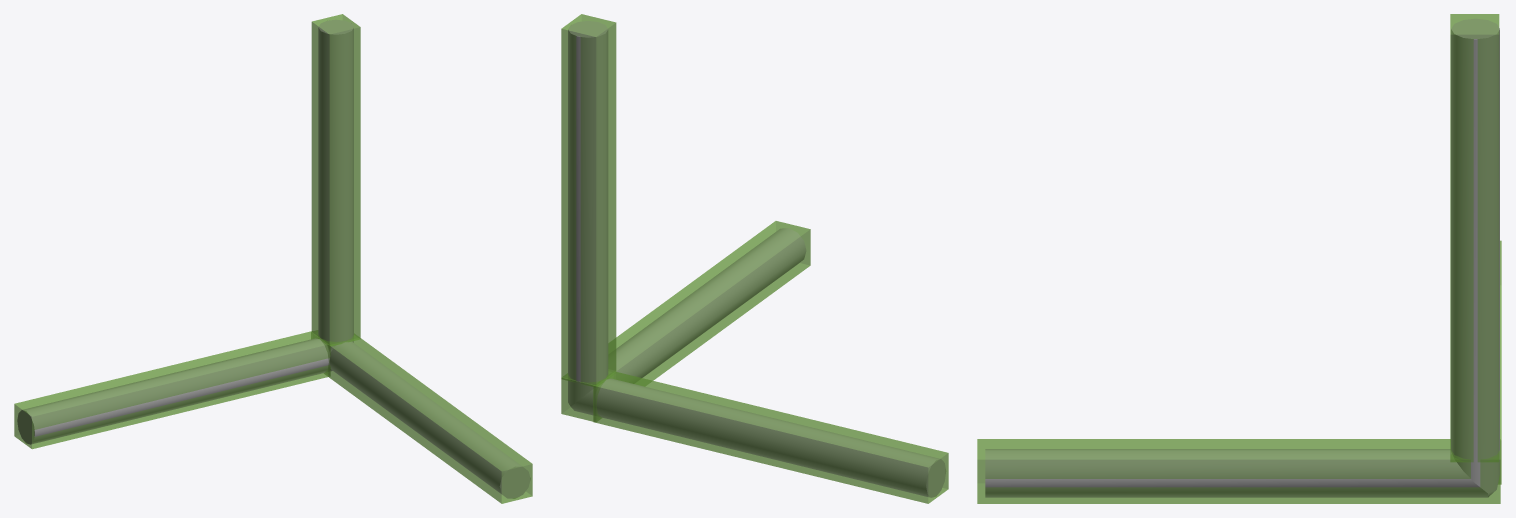
File: M_md_StallBeam1_50cm_03.fbx
3 views of the same model, side by side, from view 1: azimuth 30°, elevation 25°; view 2: azimuth 150°, elevation 25°; view 3: azimuth 270°, elevation 25° (orthographic). The views are drawn at different scales.
Parts seen in each view (by area): view 1: M_md_StallBeam1_50cm_03_LOD0, M_md_StallBeam1_50cm_03_col_03, M_md_StallBeam1_50cm_03_col_02, M_md_StallBeam1_50cm_03_col_01; view 2: M_md_StallBeam1_50cm_03_LOD0, M_md_StallBeam1_50cm_03_col_02, M_md_StallBeam1_50cm_03_col_03, M_md_StallBeam1_50cm_03_col_01; view 3: M_md_StallBeam1_50cm_03_LOD0, M_md_StallBeam1_50cm_03_col_01, M_md_StallBeam1_50cm_03_col_03.
Part boxes in pixels (bbox=[...]): M_md_StallBeam1_50cm_03_LOD0: bbox=[17, 19, 530, 498]; M_md_StallBeam1_50cm_03_col_03: bbox=[311, 14, 360, 346]; M_md_StallBeam1_50cm_03_col_02: bbox=[14, 331, 330, 449]; M_md_StallBeam1_50cm_03_col_01: bbox=[311, 330, 532, 503]; M_md_StallBeam1_50cm_03_LOD0: bbox=[568, 21, 945, 497]; M_md_StallBeam1_50cm_03_col_02: bbox=[593, 371, 948, 503]; M_md_StallBeam1_50cm_03_col_03: bbox=[561, 14, 616, 386]; M_md_StallBeam1_50cm_03_col_01: bbox=[561, 221, 810, 421]; M_md_StallBeam1_50cm_03_LOD0: bbox=[985, 18, 1499, 497]; M_md_StallBeam1_50cm_03_col_01: bbox=[977, 439, 1500, 503]; M_md_StallBeam1_50cm_03_col_03: bbox=[1450, 14, 1499, 462].
Size of what is drawn, in the model's own units: 52.92 by 53 by 53.45.
